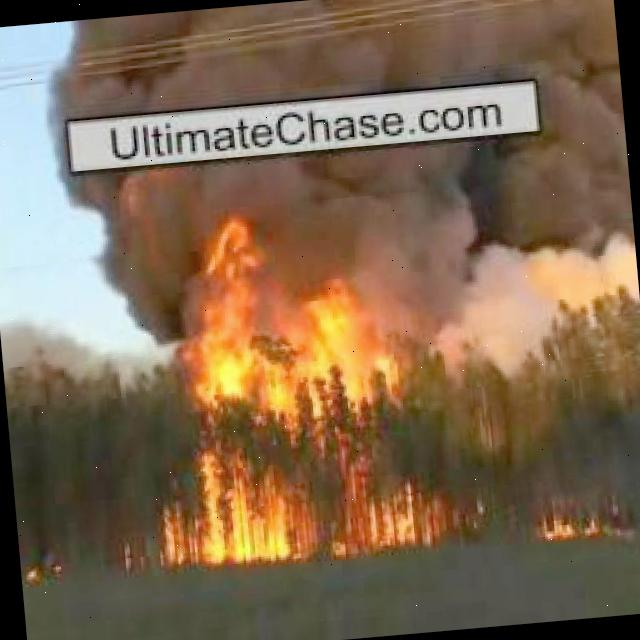fire: (133, 412, 487, 566), (188, 198, 422, 423), (532, 496, 619, 542)
